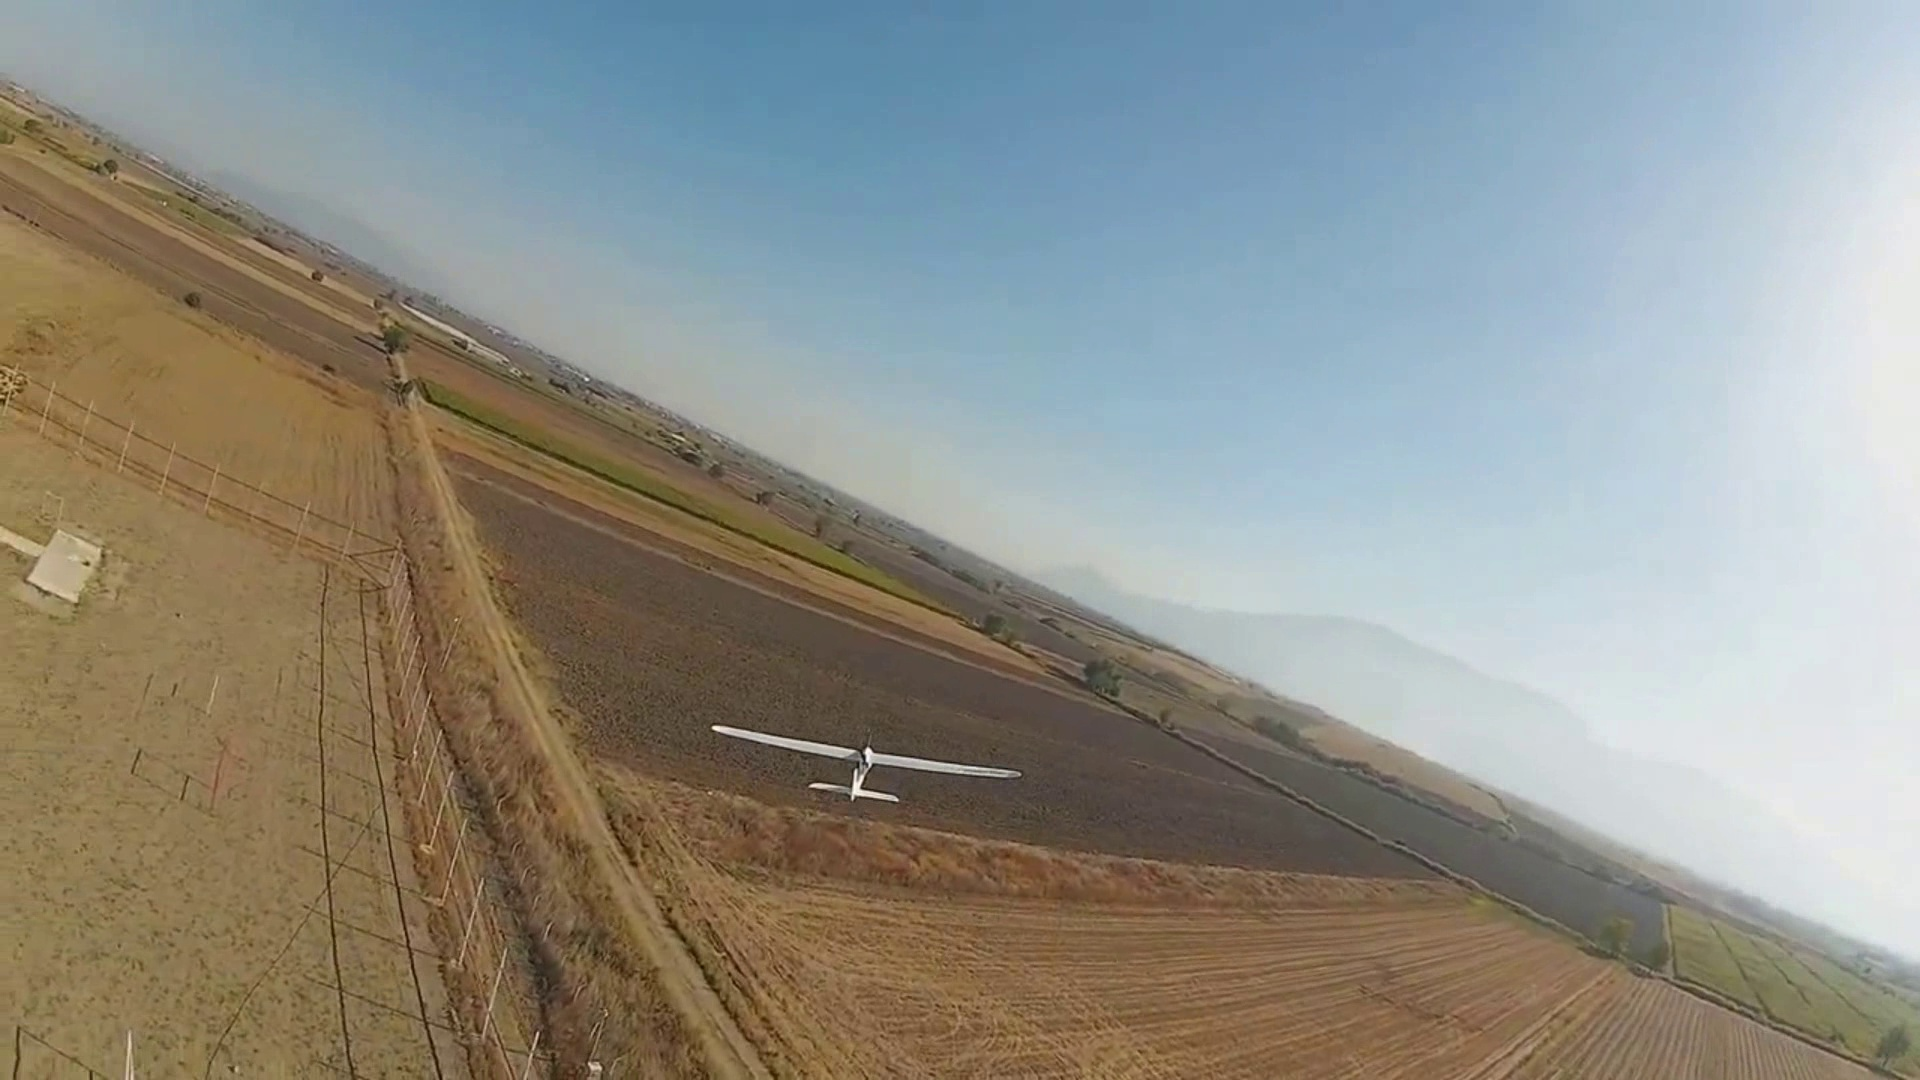airplane: (116, 249, 1913, 1058)
